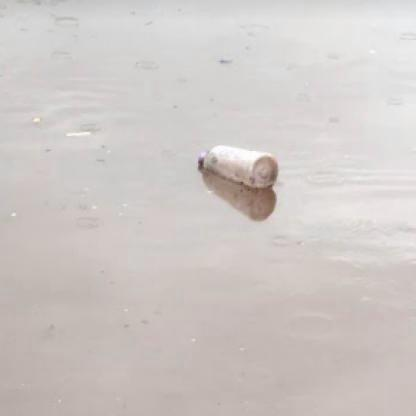Plastic: (195, 140, 282, 196)
